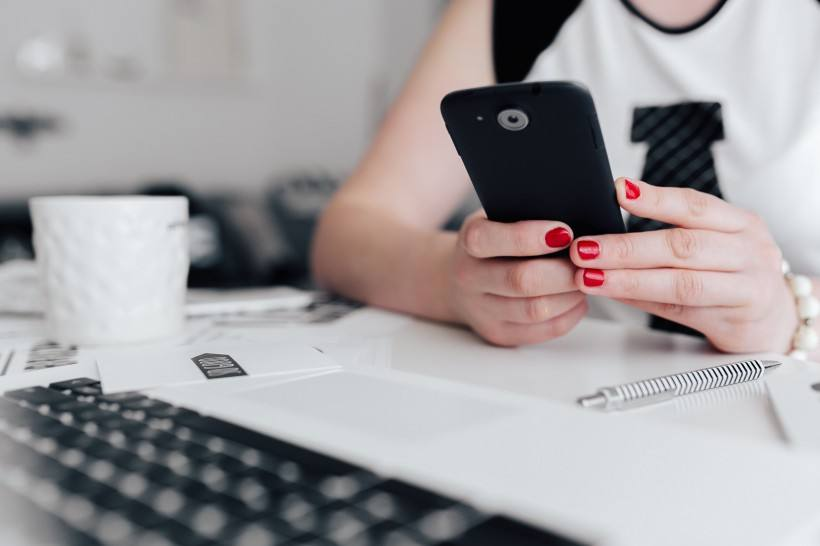reading: (437, 77, 797, 354)
